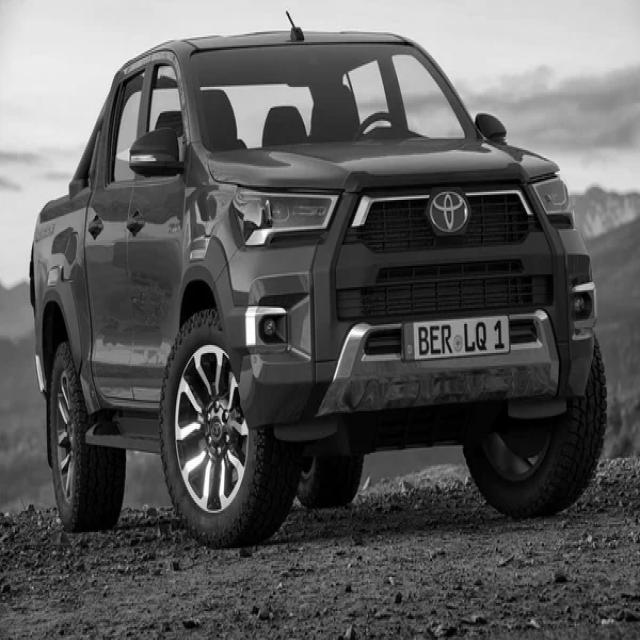Car: (30, 26, 608, 548)
